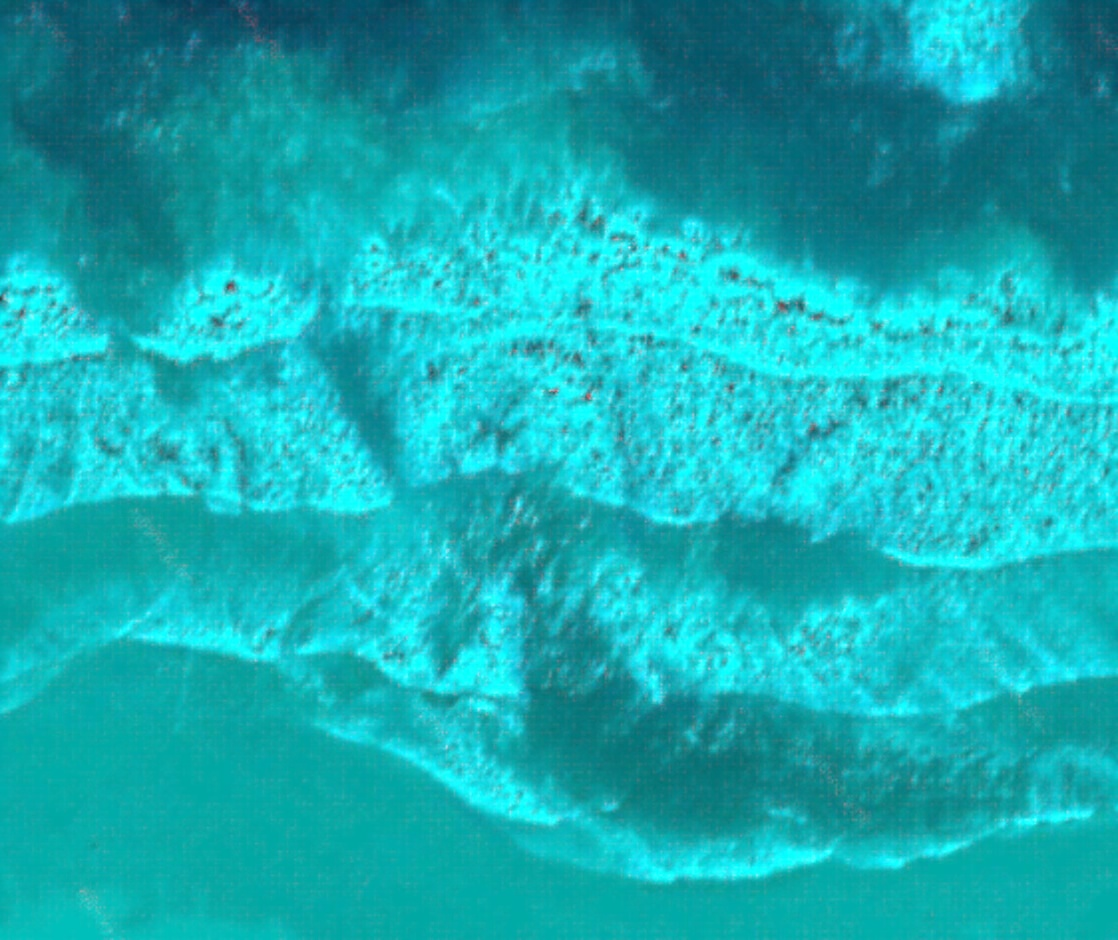rip_current: (186, 103, 761, 781)
